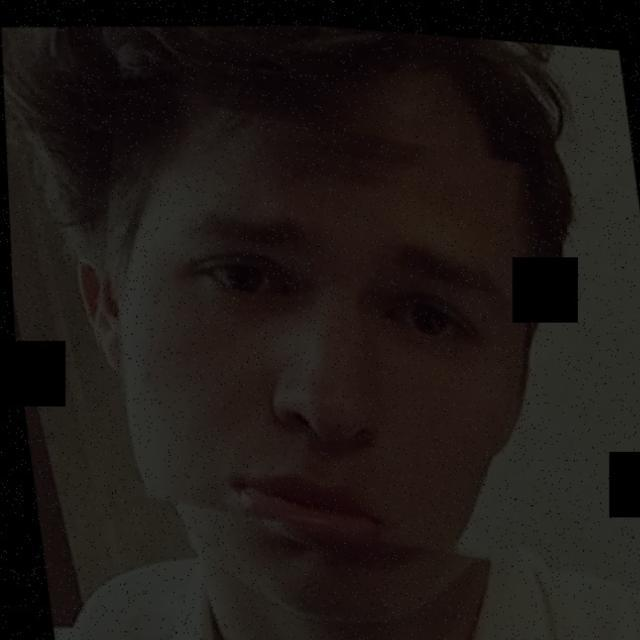Sad: (120, 50, 573, 573)
